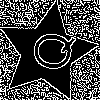Q: (22, 27, 77, 74)
